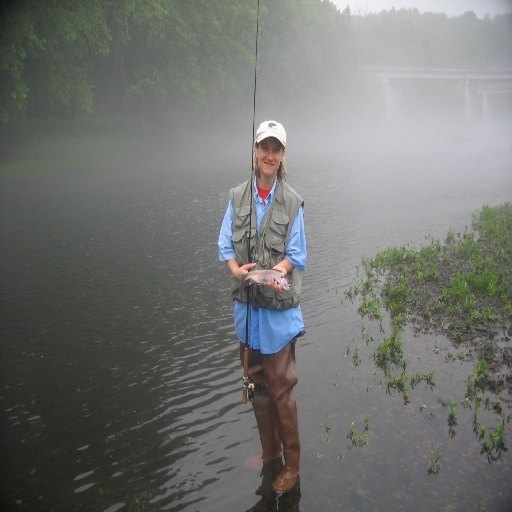hand: (264, 262, 288, 294), (233, 260, 254, 280)
